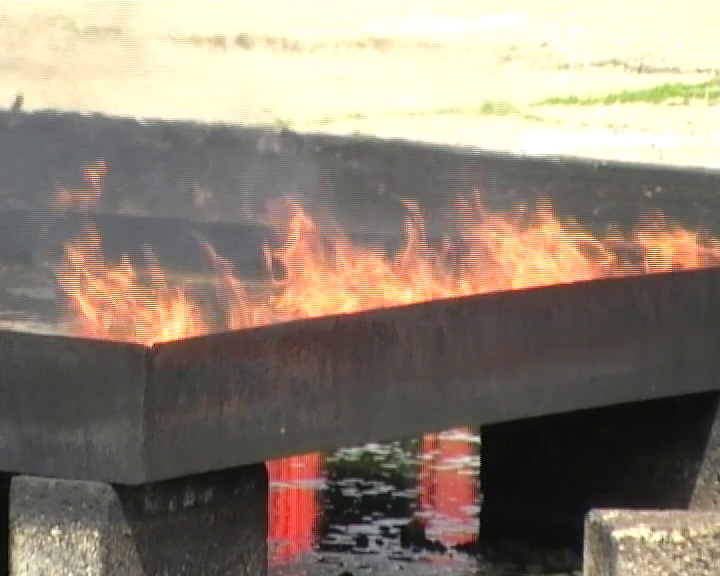fire: (248, 195, 720, 320), (54, 243, 206, 346)
